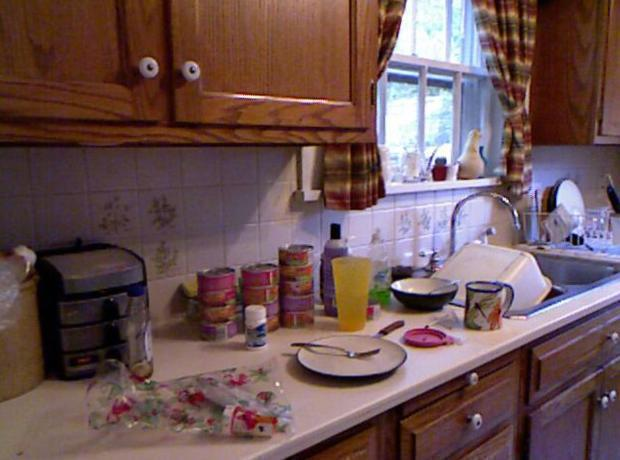Lavaplatos: (404, 172, 619, 334)
